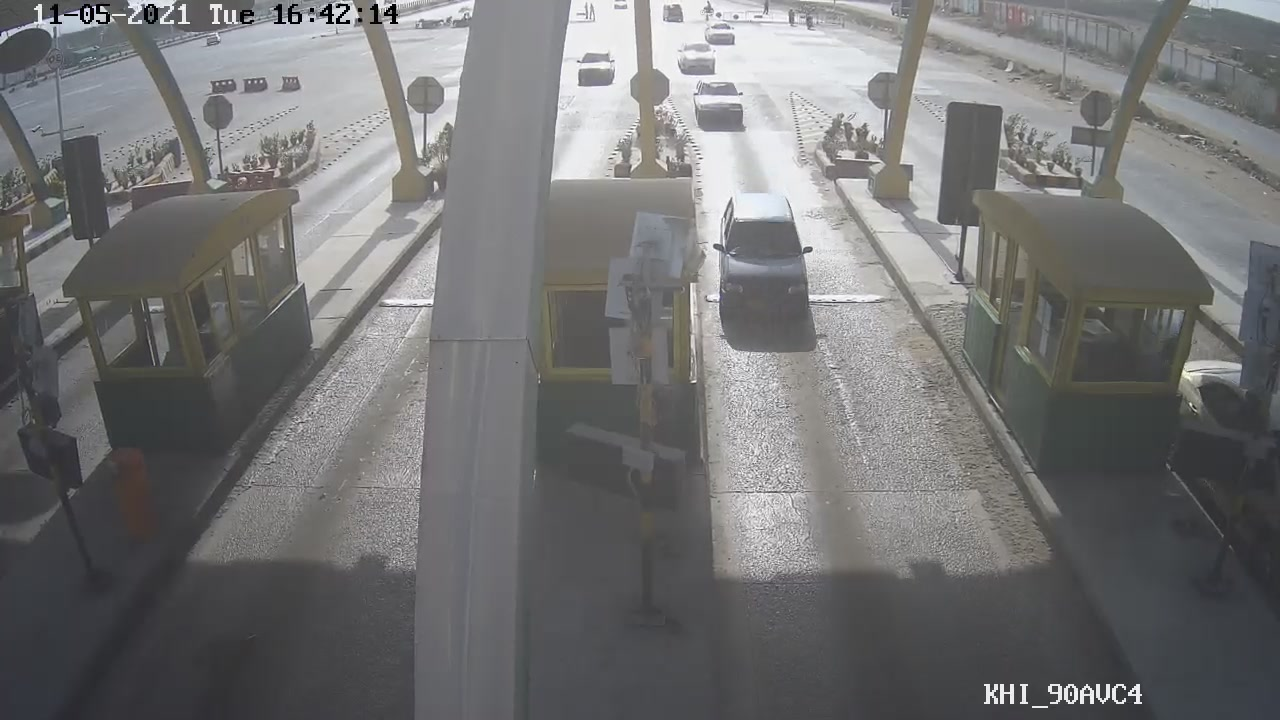F1: (705, 188, 832, 337)
